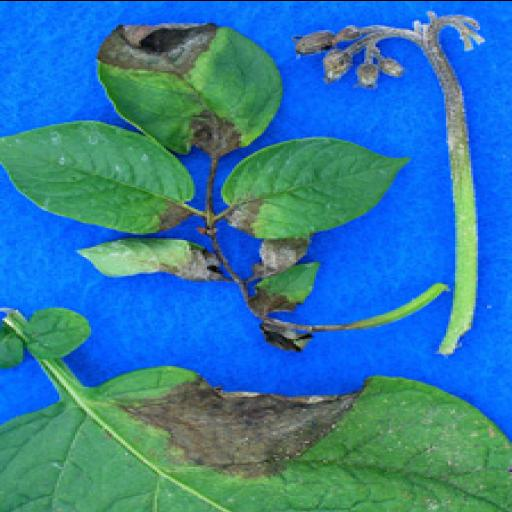Late Blight: (2, 362, 512, 510), (91, 14, 289, 154), (2, 118, 200, 234), (216, 130, 412, 239), (76, 232, 228, 280)
